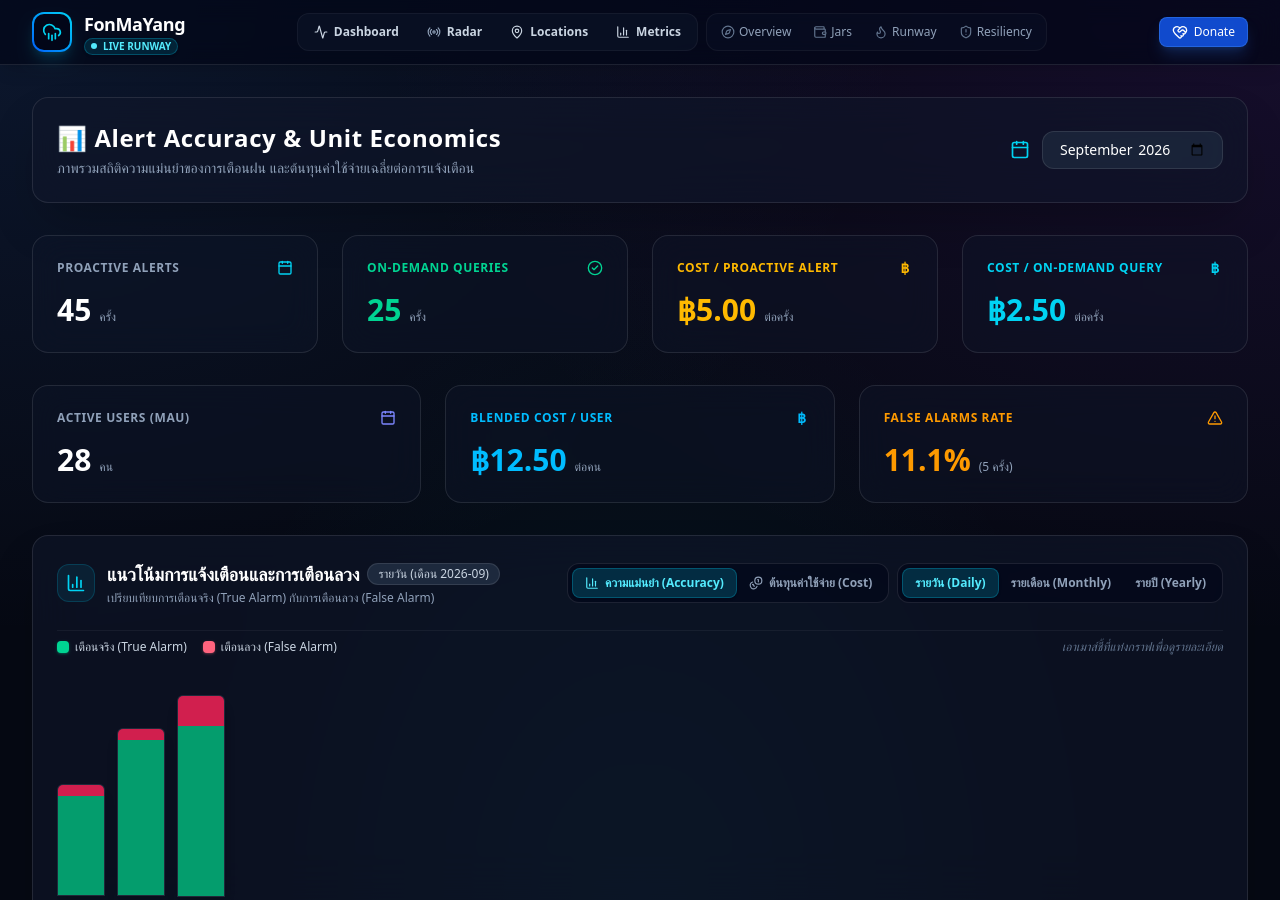
AdminMetricsPage Charts › switches between daily, monthly, and yearly chart tabs in accuracy mode
The width and height of the screenshot is (1280, 900).
# Switch to monthly tab
Click the button "รายเดือน (Monthly)" at (1061, 583), box x1=999 y1=569 x2=1123 y2=597
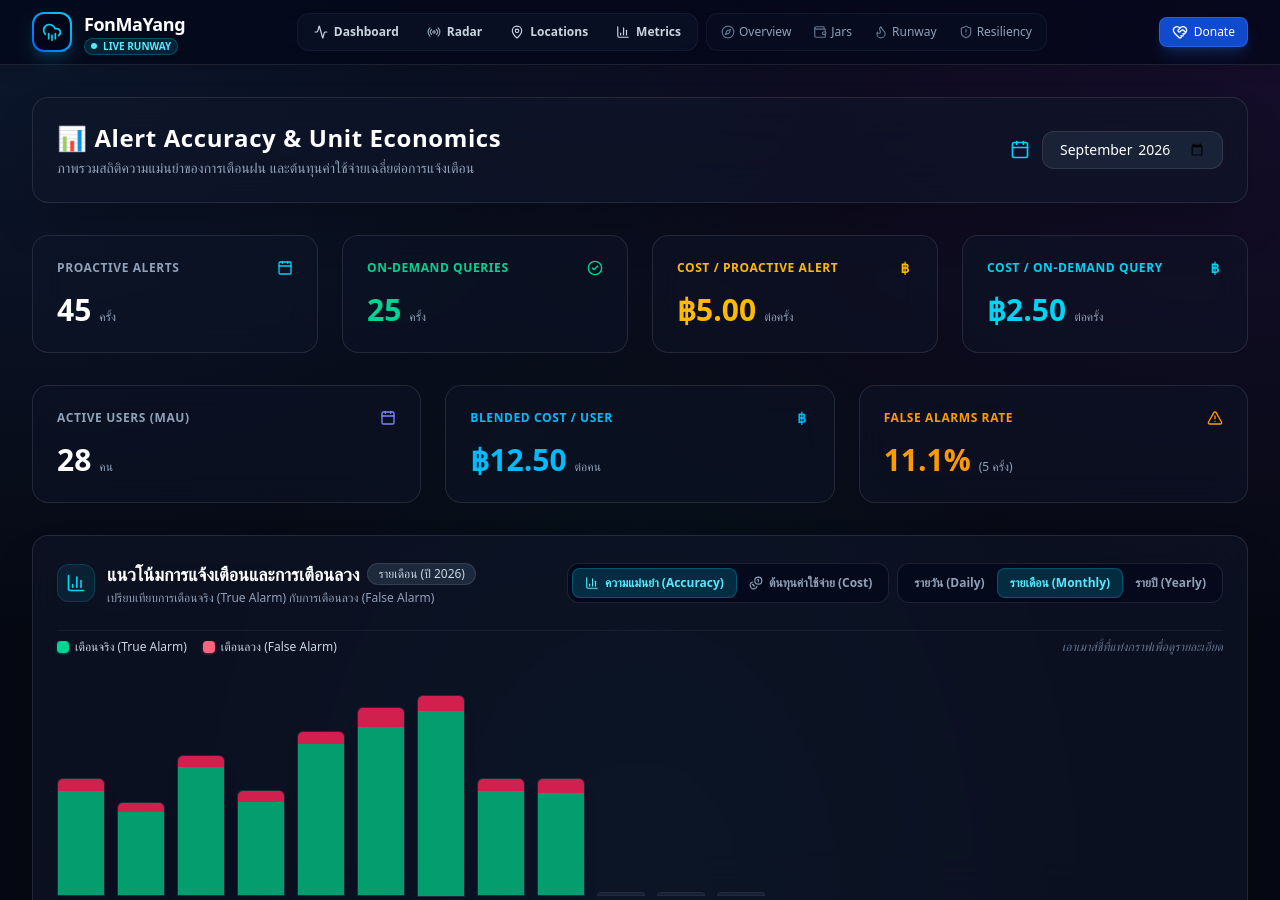
# Switch to yearly tab
Click the button "รายปี (Yearly)" at (1171, 583), box x1=1123 y1=569 x2=1218 y2=597
(page scrolled)
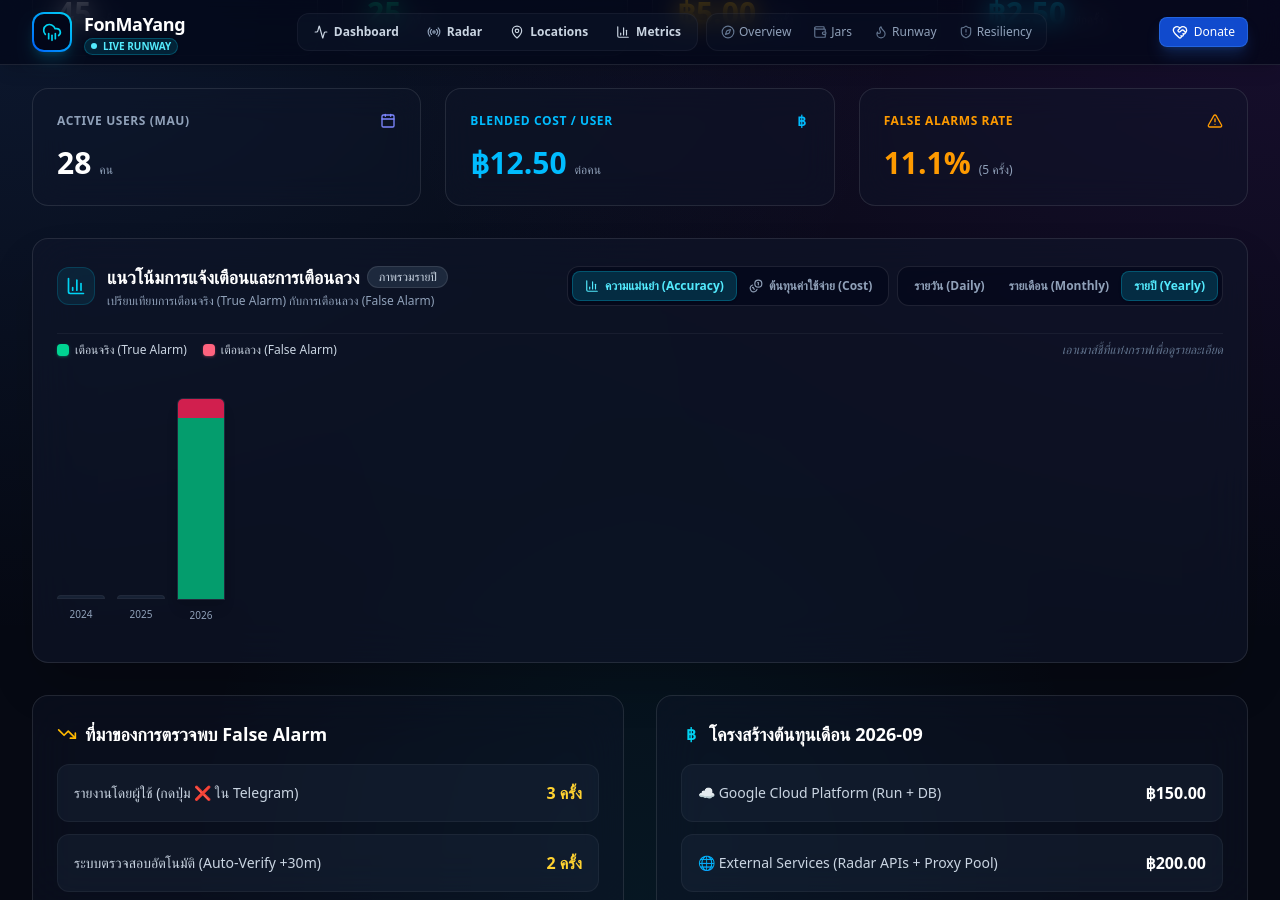
Result: the element with test id "chart-yearly" is shown at x1=32 y1=238 x2=1248 y2=663
